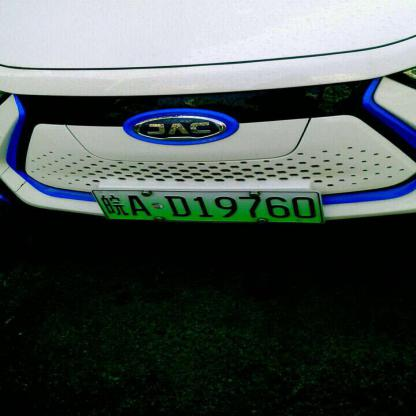lp: (90, 189, 325, 222)
